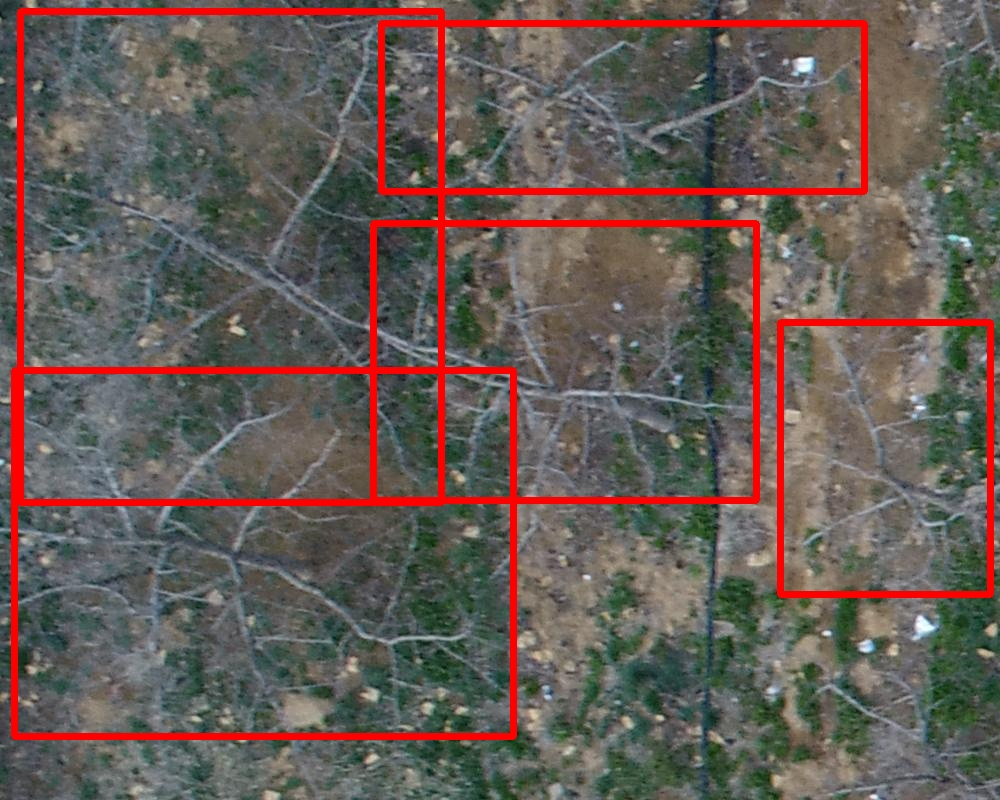apple: (20, 11, 441, 502), (14, 370, 513, 736), (373, 223, 756, 500), (381, 23, 864, 191), (780, 322, 990, 594)
